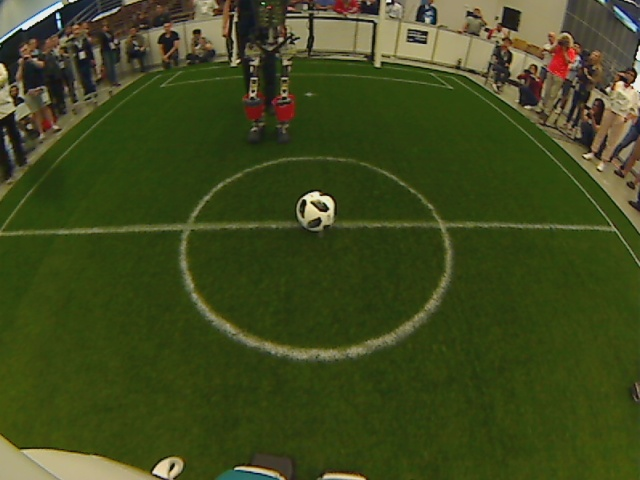ball: (291, 188, 340, 236)
